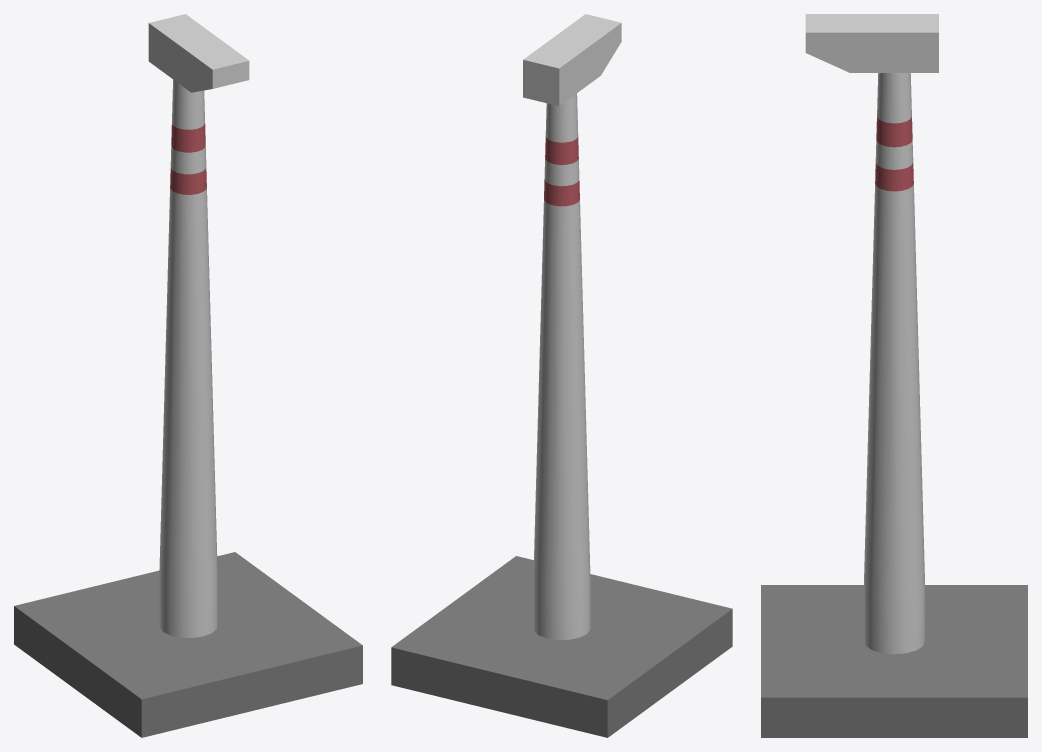
Rendered from WindTurbine.fbx.
3 renders of one model, left to right at view 1: azimuth 30°, elevation 25°; view 2: azimuth 150°, elevation 25°; view 3: azimuth 270°, elevation 25°, orthographic. The views are drawn at different scales.
Parts seen in each view (by area): view 1: Cube.011; view 2: Cube.011; view 3: Cube.011.
Boxes of the visible parts, <box> form: Cube.011: <box>14,14,362,737</box>; Cube.011: <box>391,14,732,737</box>; Cube.011: <box>761,14,1027,737</box>.
Size of the model in its own units: 600 by 1634 by 600.
